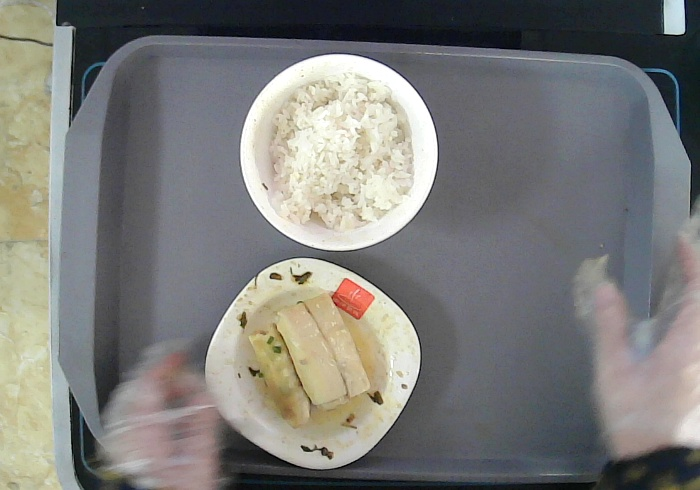SHKJ-Bai_Se_Si_Fang_Cai_Die: (203, 255, 423, 472)
SHKJ-Fan_Wan: (237, 51, 440, 253)
